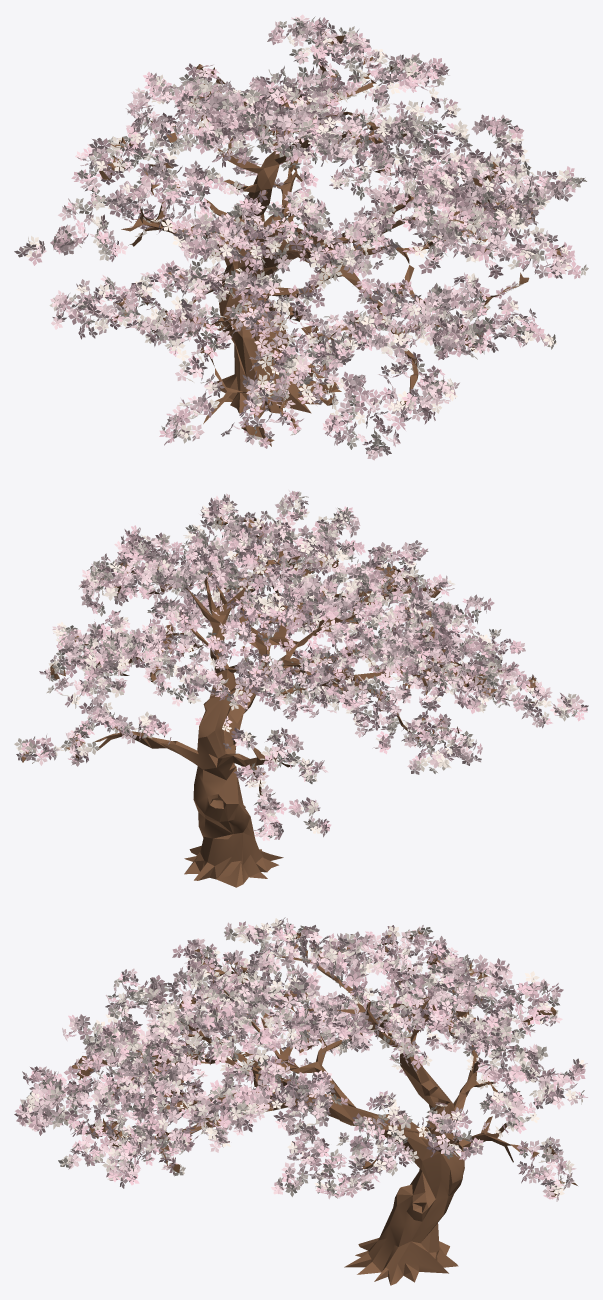
The model's file is CP01-recovered-LOD0.glb.
3 views of the same model, one above another, from view 1: azimuth 30°, elevation 25°; view 2: azimuth 150°, elevation 25°; view 3: azimuth 270°, elevation 25° (orthographic). The views are drawn at different scales.
Parts seen in each view (by area): view 1: CP01_LOD0_rebuilt_blossoms, CP01_LOD0_bark; view 2: CP01_LOD0_rebuilt_blossoms, CP01_LOD0_bark; view 3: CP01_LOD0_rebuilt_blossoms, CP01_LOD0_bark.
Boxes of the visible parts, x1=… form: CP01_LOD0_rebuilt_blossoms: x1=14, y1=14, x2=588, y2=460; CP01_LOD0_bark: x1=99, y1=24, x2=564, y2=446; CP01_LOD0_rebuilt_blossoms: x1=14, y1=490, x2=588, y2=840; CP01_LOD0_bark: x1=21, y1=516, x2=540, y2=887; CP01_LOD0_rebuilt_blossoms: x1=14, y1=917, x2=587, y2=1201; CP01_LOD0_bark: x1=65, y1=928, x2=577, y2=1285.
Bounding box in the file's own units: 12.62 × 8.59 × 13.46.
